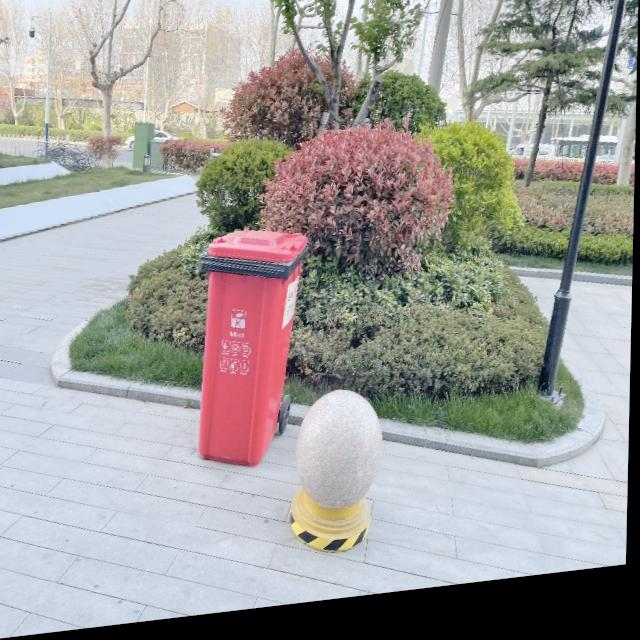garbage_bin: (191, 229, 308, 478)
